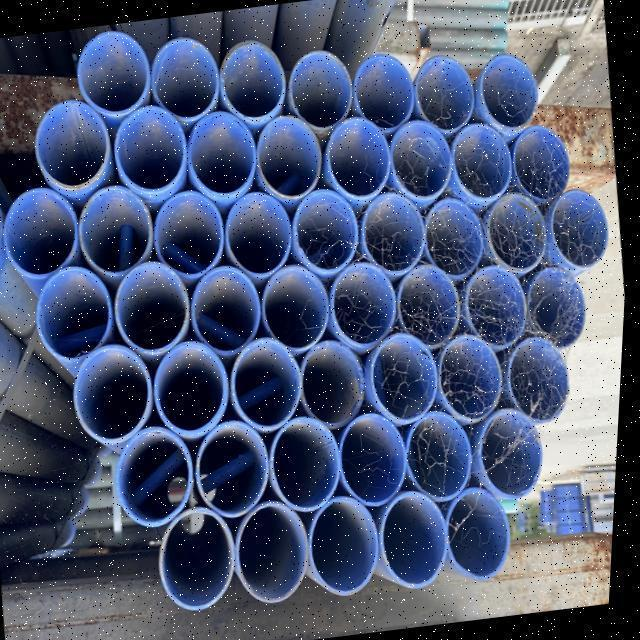pipe: (234, 500, 319, 602), (160, 503, 242, 608), (113, 424, 195, 527), (27, 263, 114, 359), (75, 343, 156, 443), (312, 493, 386, 594), (439, 481, 518, 574), (116, 258, 194, 351), (273, 413, 345, 512), (339, 409, 413, 505), (155, 341, 230, 434), (5, 182, 80, 275), (385, 486, 453, 588), (369, 332, 445, 423), (200, 419, 271, 516), (154, 187, 232, 275), (80, 185, 154, 275), (235, 335, 306, 428), (116, 103, 188, 192), (393, 256, 462, 348), (194, 262, 266, 350), (38, 98, 110, 186), (76, 27, 149, 113), (481, 405, 549, 497), (263, 260, 334, 348), (286, 186, 358, 272), (303, 339, 371, 428), (440, 333, 507, 422), (225, 186, 292, 275), (409, 409, 476, 497), (329, 260, 400, 343), (189, 109, 259, 193), (510, 334, 575, 423), (327, 113, 393, 199), (254, 113, 321, 197), (151, 35, 221, 115), (220, 36, 288, 116), (361, 191, 426, 274), (389, 115, 454, 198), (287, 47, 355, 126), (470, 260, 531, 345), (453, 119, 516, 200), (488, 189, 549, 272), (425, 196, 487, 277), (352, 51, 414, 132), (412, 53, 476, 131), (551, 184, 609, 270), (530, 265, 590, 347), (513, 120, 571, 202), (479, 50, 539, 128)
